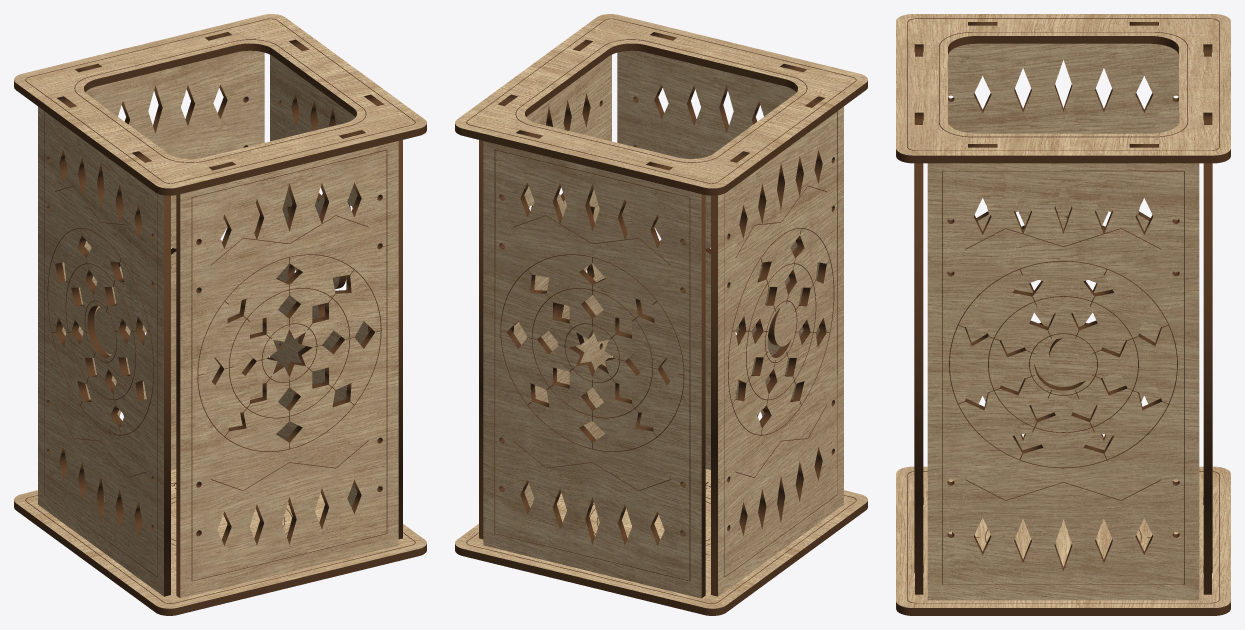
File: solstice.glb
3 renders of one model, left to right at view 1: azimuth 30°, elevation 25°; view 2: azimuth 150°, elevation 25°; view 3: azimuth 270°, elevation 25°, orthographic. The views are drawn at different scales.
Visible parts, largest first — view 1: body0, body3, body5, body1, body4, body2, score0, score3, score5, score4; view 2: body1, body3, body5, body0, body4, body2, score1, score3, score5, score4; view 3: body2, body5, body3, body4, body0, body1, score2, score5, score4.
Part boxes in pixels (box(x1,y1,x2,y2)): body0: box(176, 130, 398, 598); body3: box(38, 96, 170, 596); body5: box(14, 14, 426, 195); body1: box(62, 32, 264, 469); body4: box(14, 469, 426, 615); body2: box(270, 39, 402, 539); score0: box(191, 149, 387, 581); score3: box(44, 111, 157, 577); score5: box(25, 18, 415, 183); score4: box(25, 488, 415, 603); body1: box(483, 130, 705, 598); body3: box(711, 96, 843, 596); body5: box(455, 14, 867, 195); body0: box(617, 32, 819, 469); body4: box(455, 469, 867, 615); body2: box(479, 39, 611, 539); score1: box(494, 149, 690, 581); score3: box(724, 111, 837, 577); score5: box(466, 18, 856, 183); score4: box(466, 488, 856, 603); body2: box(927, 144, 1199, 600); body5: box(896, 14, 1230, 163); body3: box(948, 22, 1178, 449); body4: box(896, 466, 1230, 615); body0: box(915, 44, 923, 594); body1: box(1203, 44, 1211, 594); score2: box(942, 170, 1184, 584); score5: box(907, 18, 1219, 150); score4: box(907, 471, 1219, 603).
Size of the model in its own units: 0.116 by 0.1761 by 0.116.
Materials: 4 (1 with a texture image).
